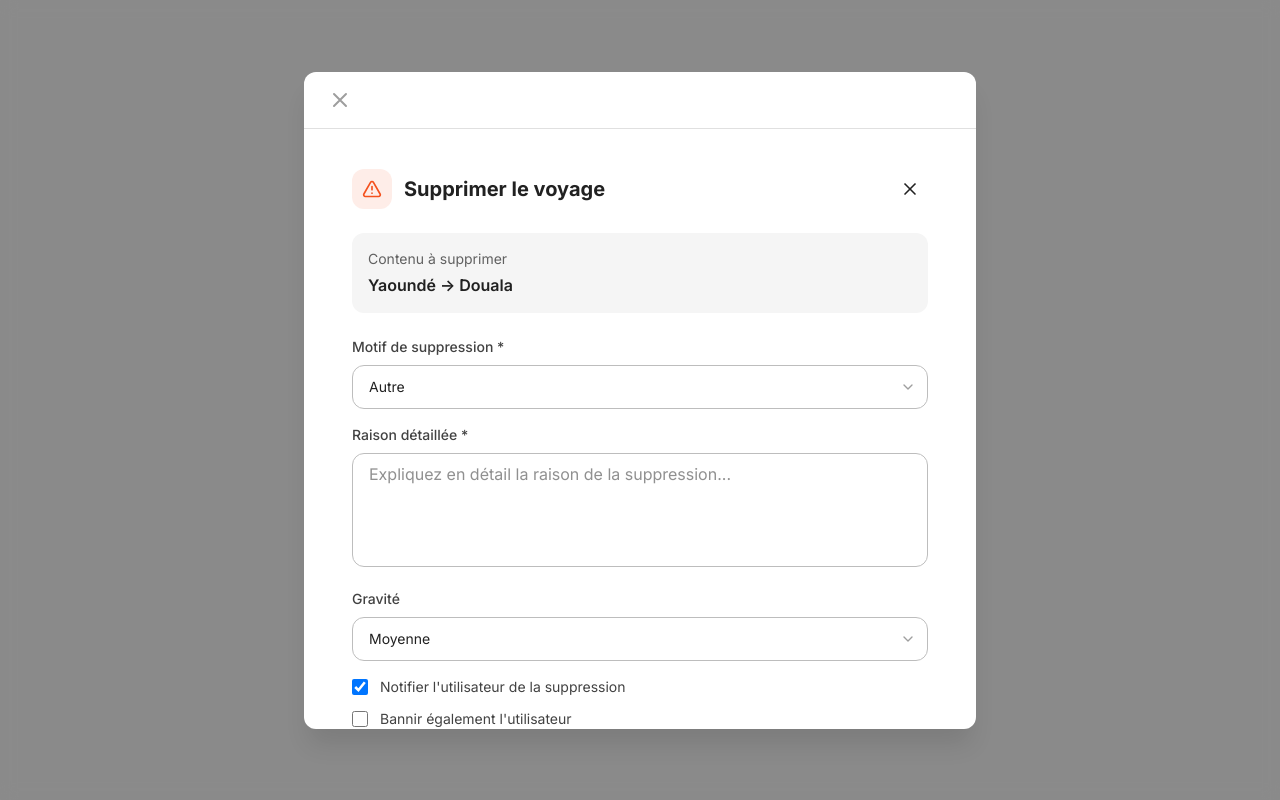
Test: DeleteContentModal - logique metier › exige une raison de bannissement quand Bannir l'utilisateur est coche
The width and height of the screenshot is (1280, 800).
Click the checkbox labelled "Bannir également l'utilisateur" at (360, 718), box [352, 710, 368, 726]
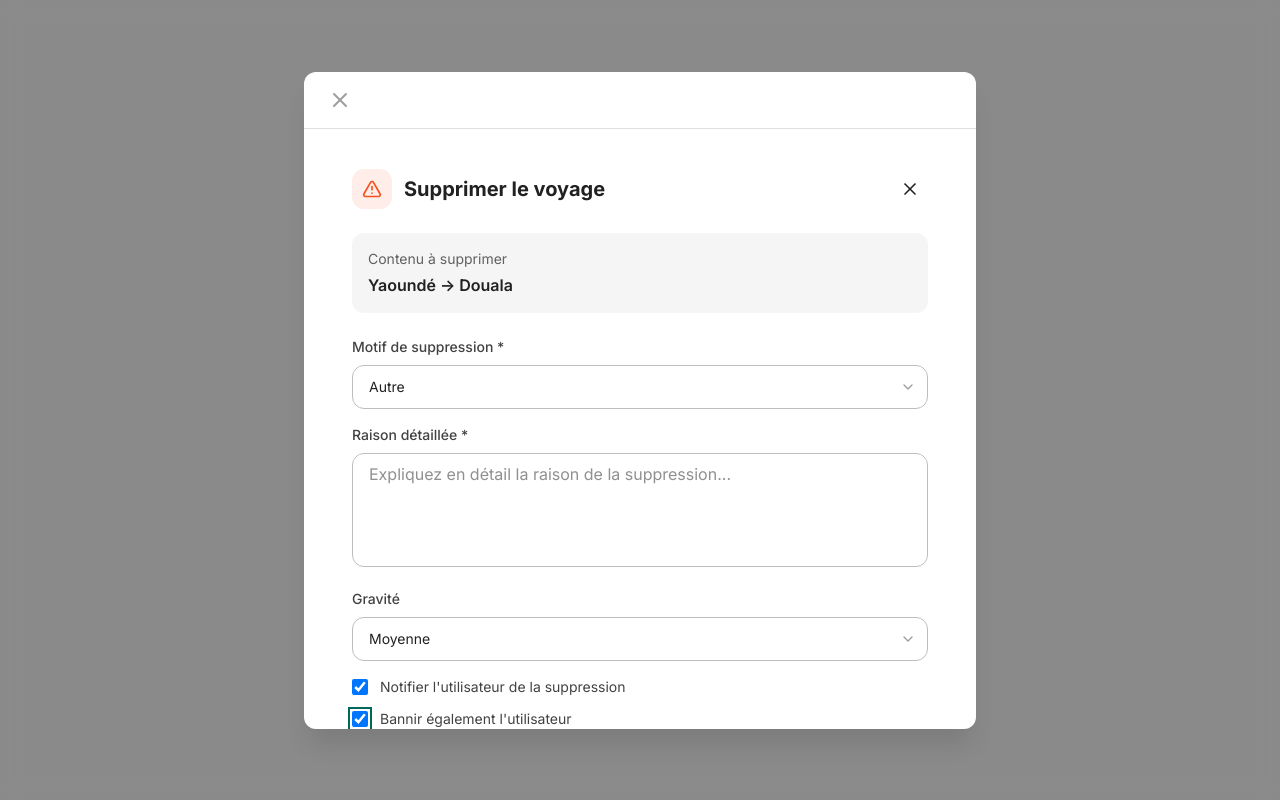
Type "Contenu frauduleux confirmé" into the text box with placeholder "Expliquez en détail la raison de la suppression..." at (640, 510), box [352, 452, 928, 566]
(page scrolled)
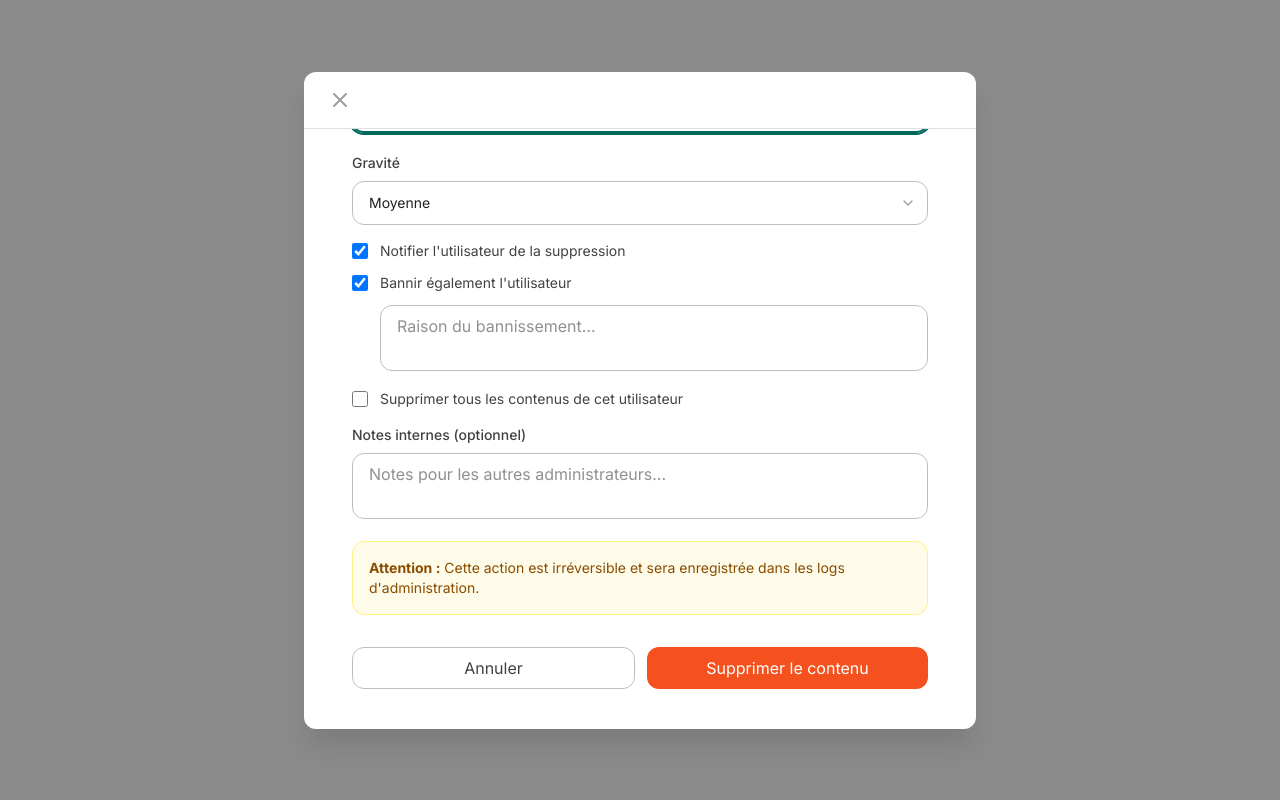
Click the button "Supprimer le contenu" at (788, 668), box [647, 646, 928, 688]
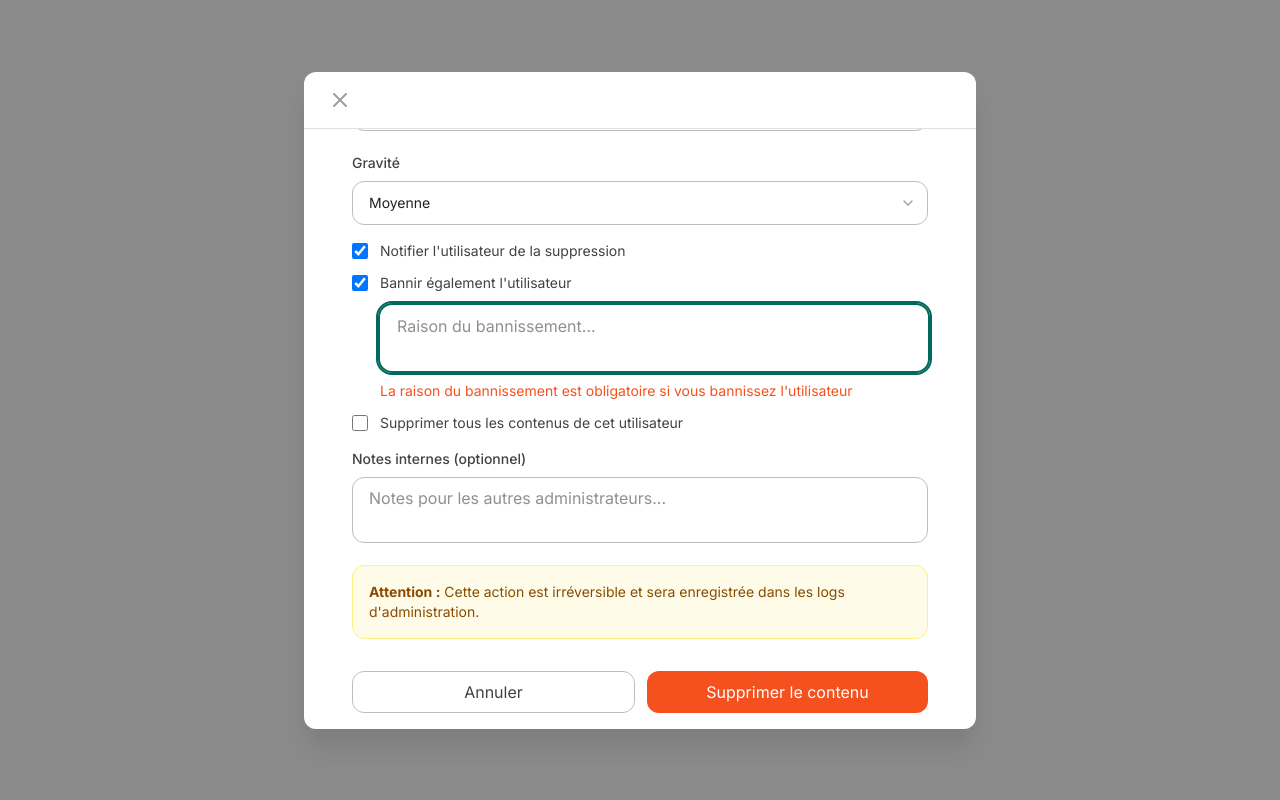
Now the text "raison du bannissement est obligatoire" is shown, box [380, 382, 853, 398]
